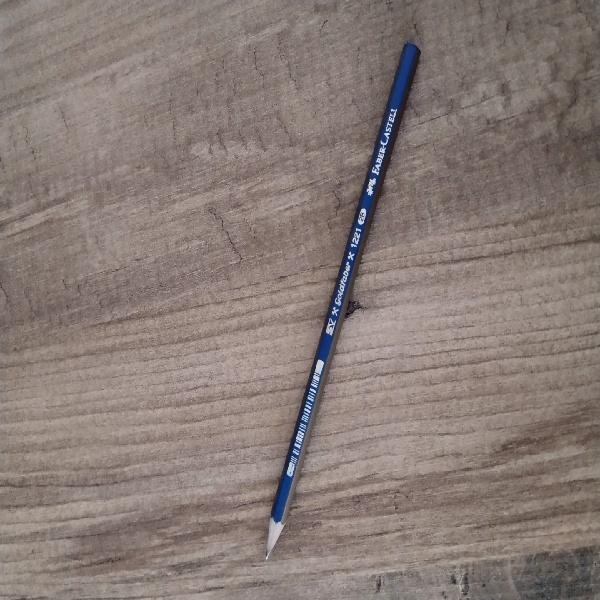pencil: (267, 43, 419, 557)
